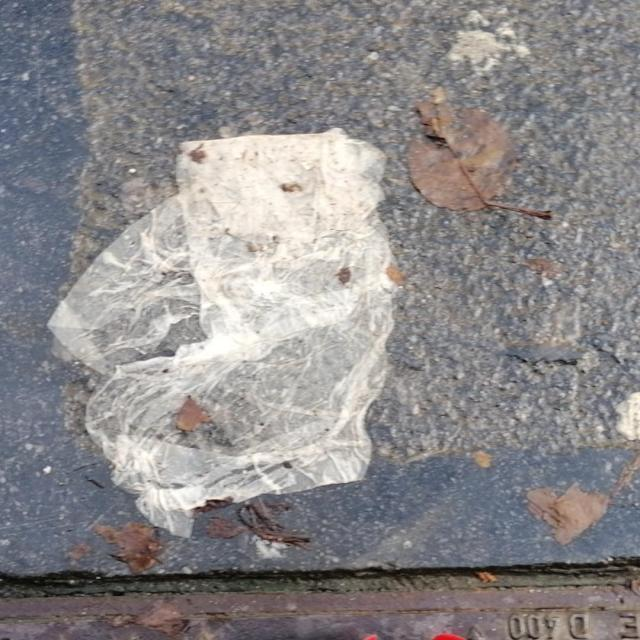Paper: (44, 124, 400, 540)
